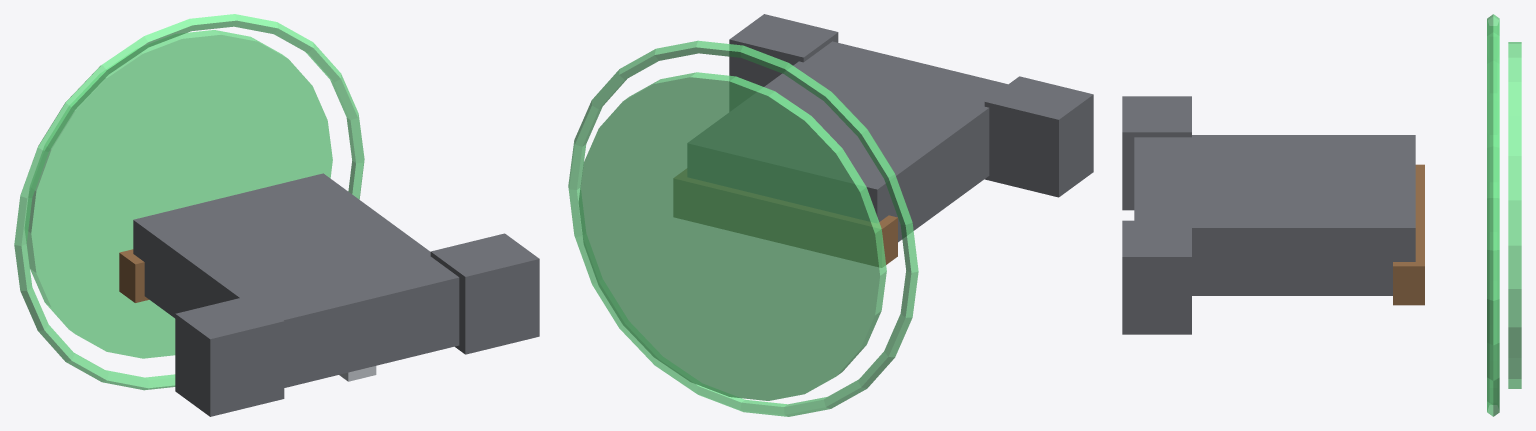
File: armor_pickup_reinforced_chestplate_uncommon.glb
3 renders of one model, left to right at view 1: azimuth 30°, elevation 25°; view 2: azimuth 150°, elevation 25°; view 3: azimuth 270°, elevation 25°, orthographic.
Parts seen in each view (by area): view 1: rarity_base_disc, torso_plate, left_pauldron, rarity_orbit_ring, right_pauldron, belt; view 2: rarity_base_disc, torso_plate, rarity_orbit_ring, left_pauldron, belt, right_pauldron; view 3: torso_plate, right_pauldron, rarity_orbit_ring, rarity_base_disc, left_pauldron, belt.
Part boxes in pixels (x1,y1,x2,y2): rarity_base_disc: (25, 30, 332, 358); torso_plate: (133, 173, 459, 387); left_pauldron: (175, 295, 284, 416); rarity_orbit_ring: (14, 14, 364, 390); right_pauldron: (430, 233, 539, 354); belt: (119, 249, 149, 302); rarity_base_disc: (578, 72, 886, 400); torso_plate: (688, 41, 1007, 242); rarity_orbit_ring: (568, 40, 918, 416); left_pauldron: (984, 76, 1093, 197); belt: (674, 169, 897, 267); right_pauldron: (729, 14, 838, 110); torso_plate: (1134, 135, 1415, 295); right_pauldron: (1122, 220, 1191, 334); rarity_orbit_ring: (1487, 14, 1499, 416); rarity_base_disc: (1508, 42, 1521, 388); left_pauldron: (1122, 96, 1191, 210); belt: (1393, 164, 1424, 305).
Bounding box in the file's own units: 1.51 × 1.51 × 1.49.
